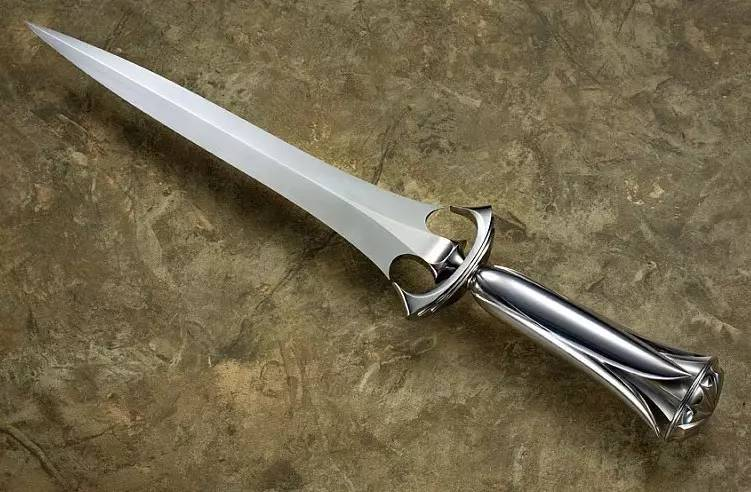knife: (8, 8, 733, 459)
